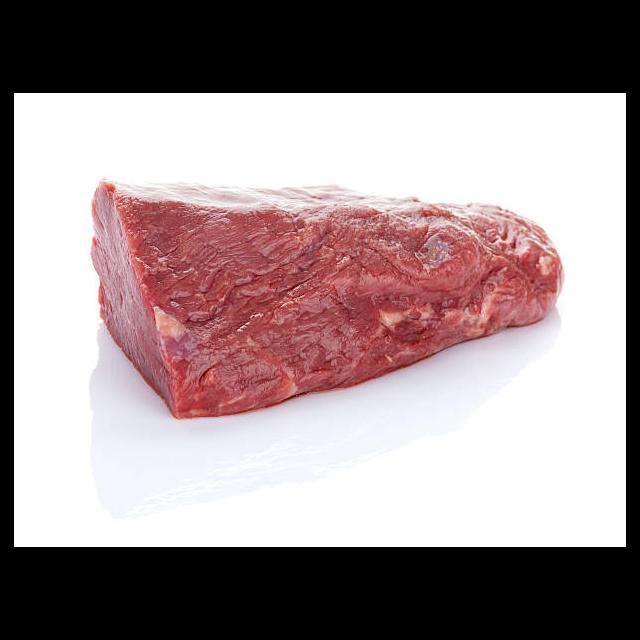beef: (87, 175, 565, 419)
